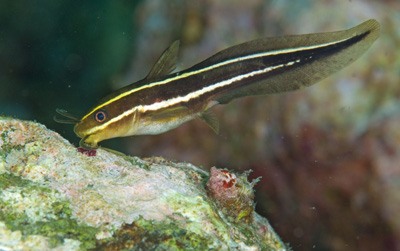gonzui: (62, 19, 388, 145)
